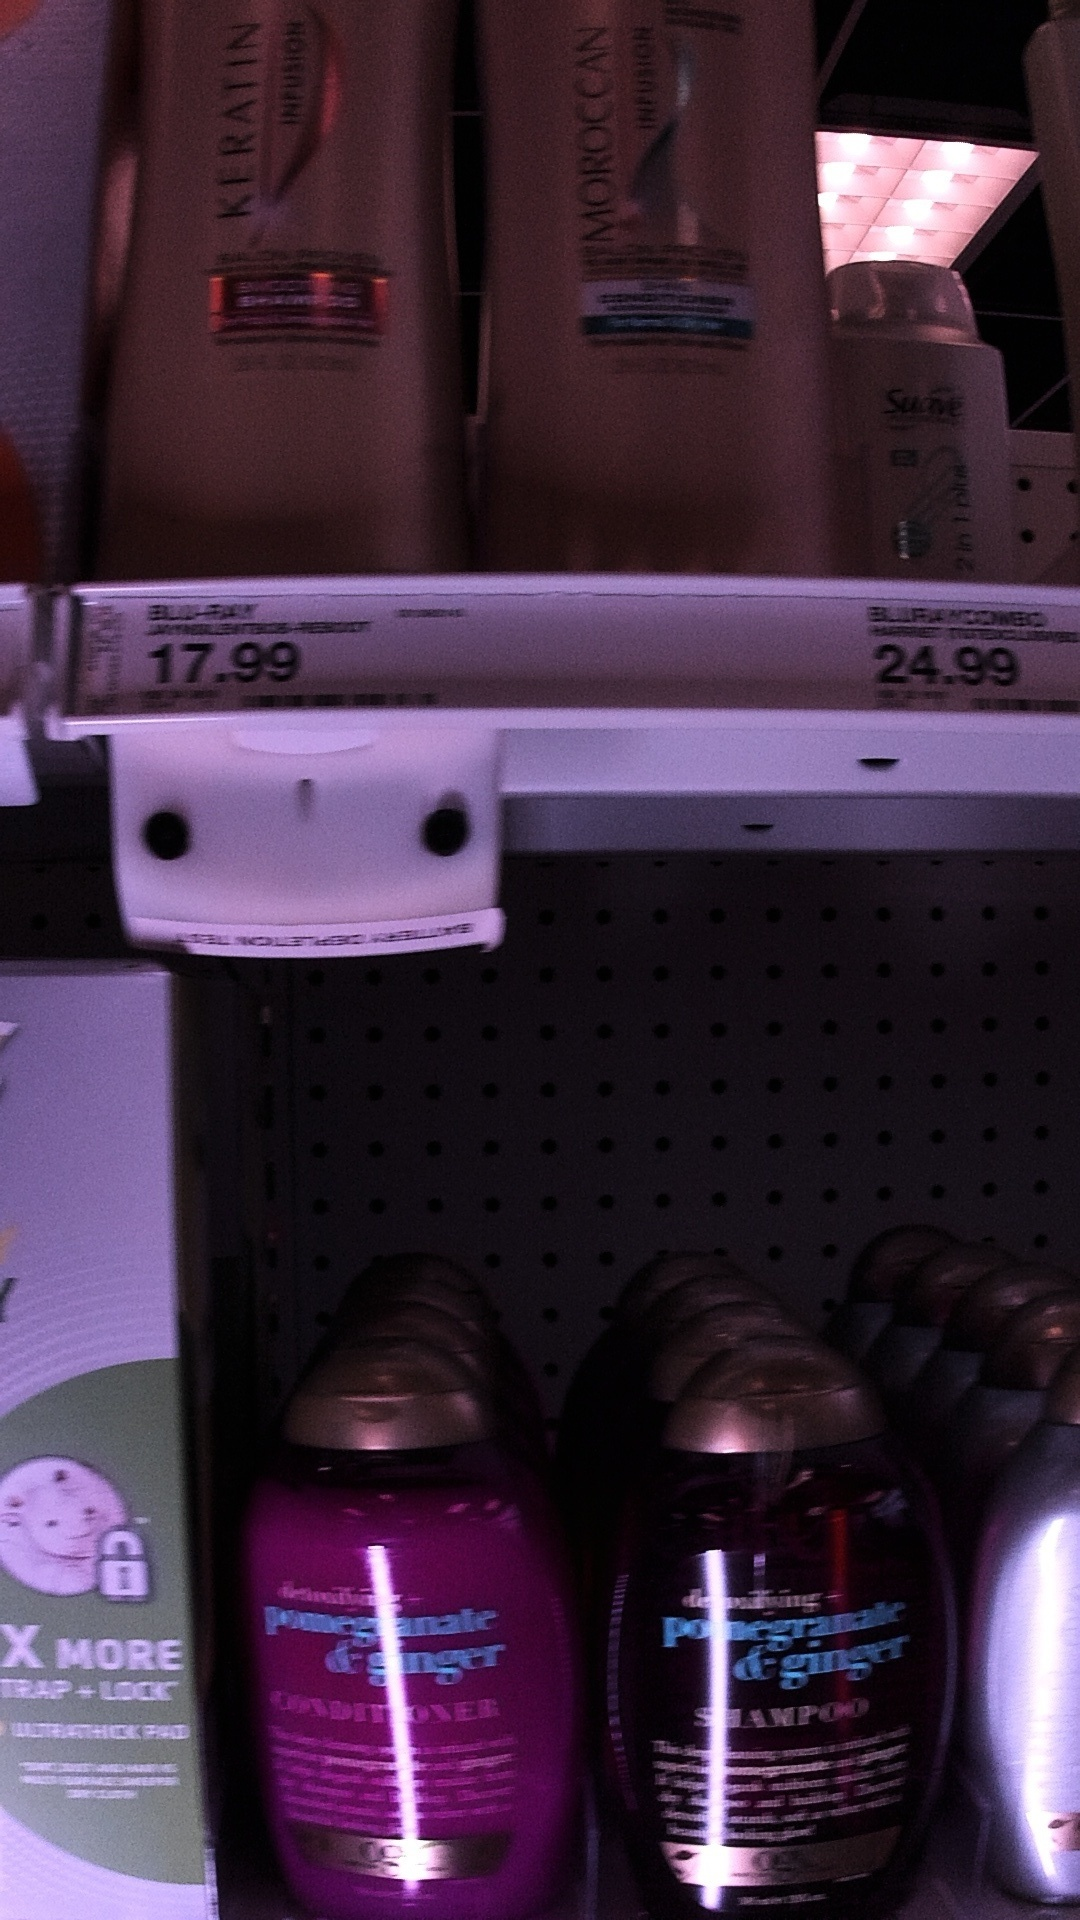ptag: (129, 593, 480, 715), (843, 591, 1080, 713)
